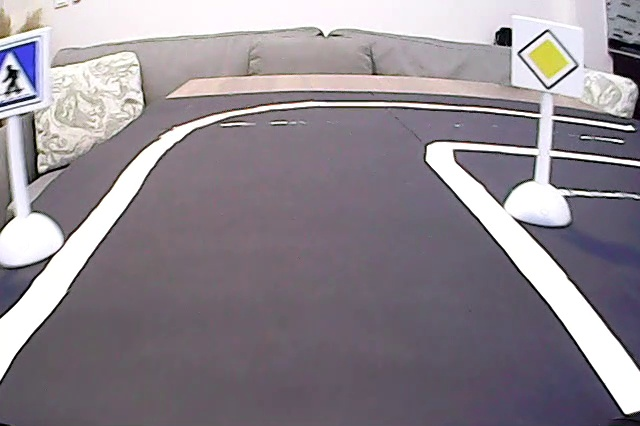pedestrian crossing: (1, 38, 41, 115)
